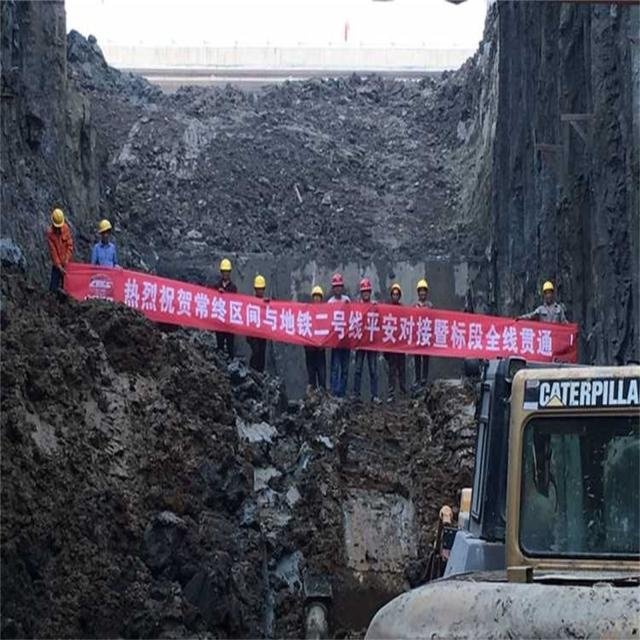Con_Casco: (218, 257, 233, 280), (99, 220, 113, 242), (253, 275, 266, 297)
